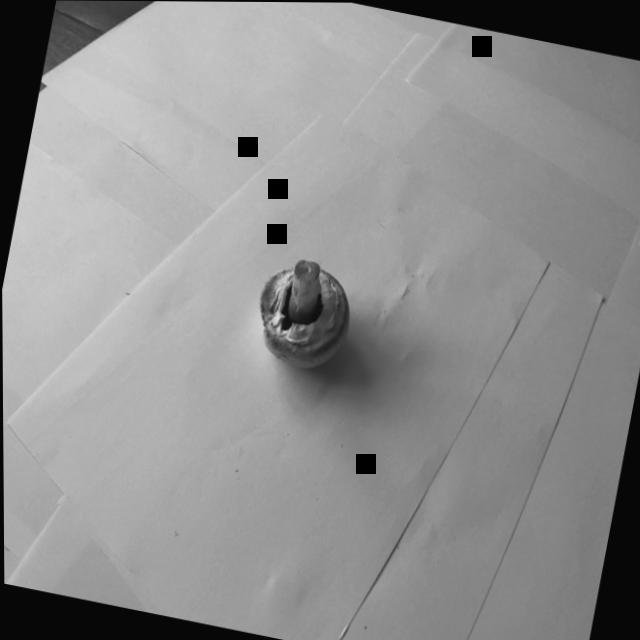Buttonmushroom: (192, 202, 420, 473)
